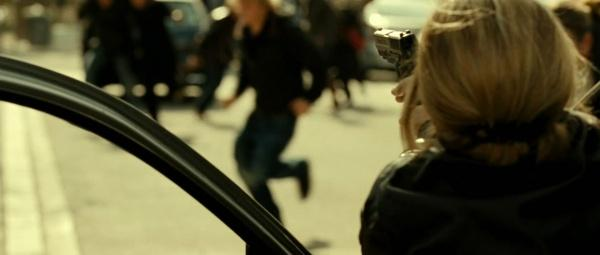Gun: (373, 27, 420, 79)
